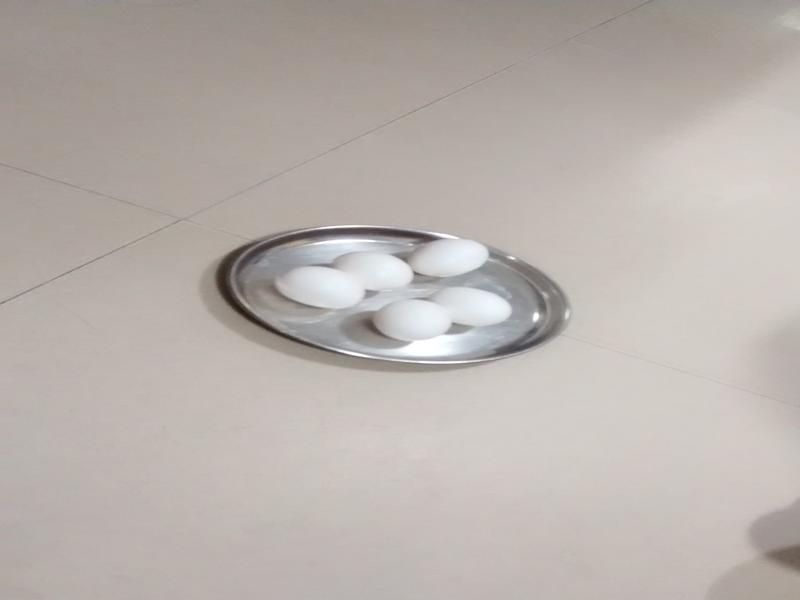egg: (328, 249, 421, 289)
